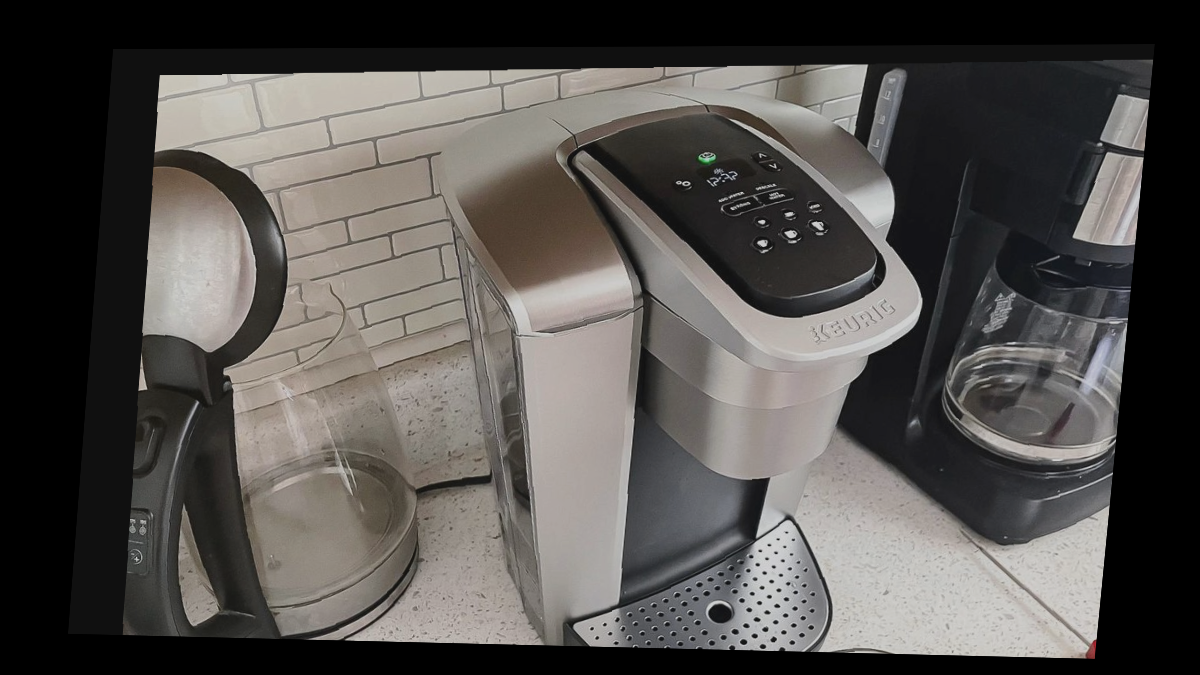10oz: (778, 226, 804, 246)
12oz: (807, 218, 832, 238)
4oz: (751, 216, 773, 229)
6oz: (779, 208, 801, 222)
8oz: (750, 236, 776, 255)
add_water: (713, 181, 751, 205)
descale: (751, 171, 786, 195)
hot: (757, 181, 800, 210)
iced: (804, 199, 826, 215)
power: (696, 151, 719, 165)
strong: (718, 193, 761, 222)
